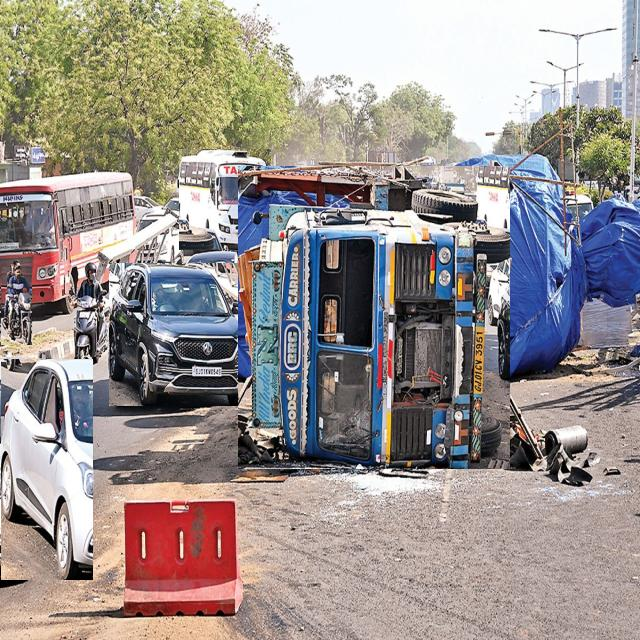accident: (238, 166, 510, 469)
bus: (0, 173, 135, 312), (179, 150, 271, 250)
car: (109, 263, 250, 406), (1, 359, 92, 580)
motorcycle: (72, 262, 108, 370), (1, 265, 31, 345)
